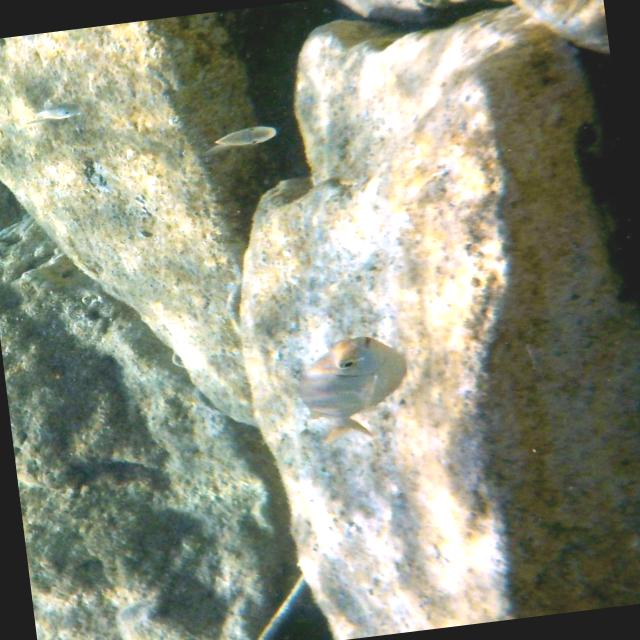Sokar Baligi: (278, 314, 428, 457)
